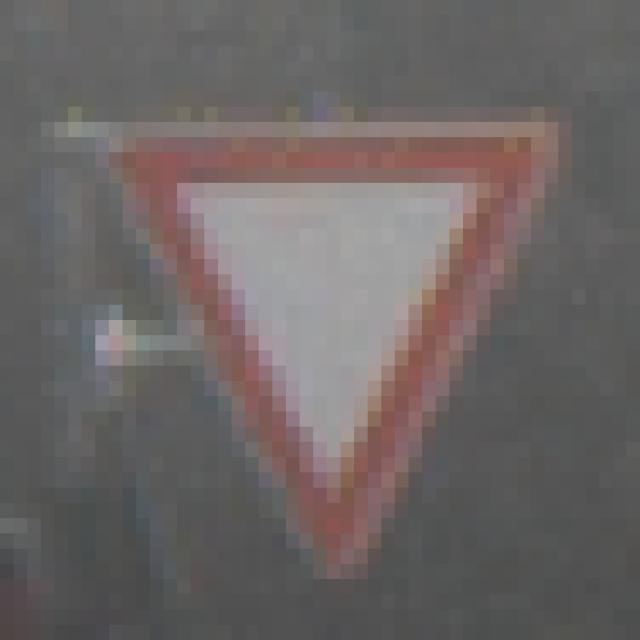Give Way: (83, 77, 573, 565)
